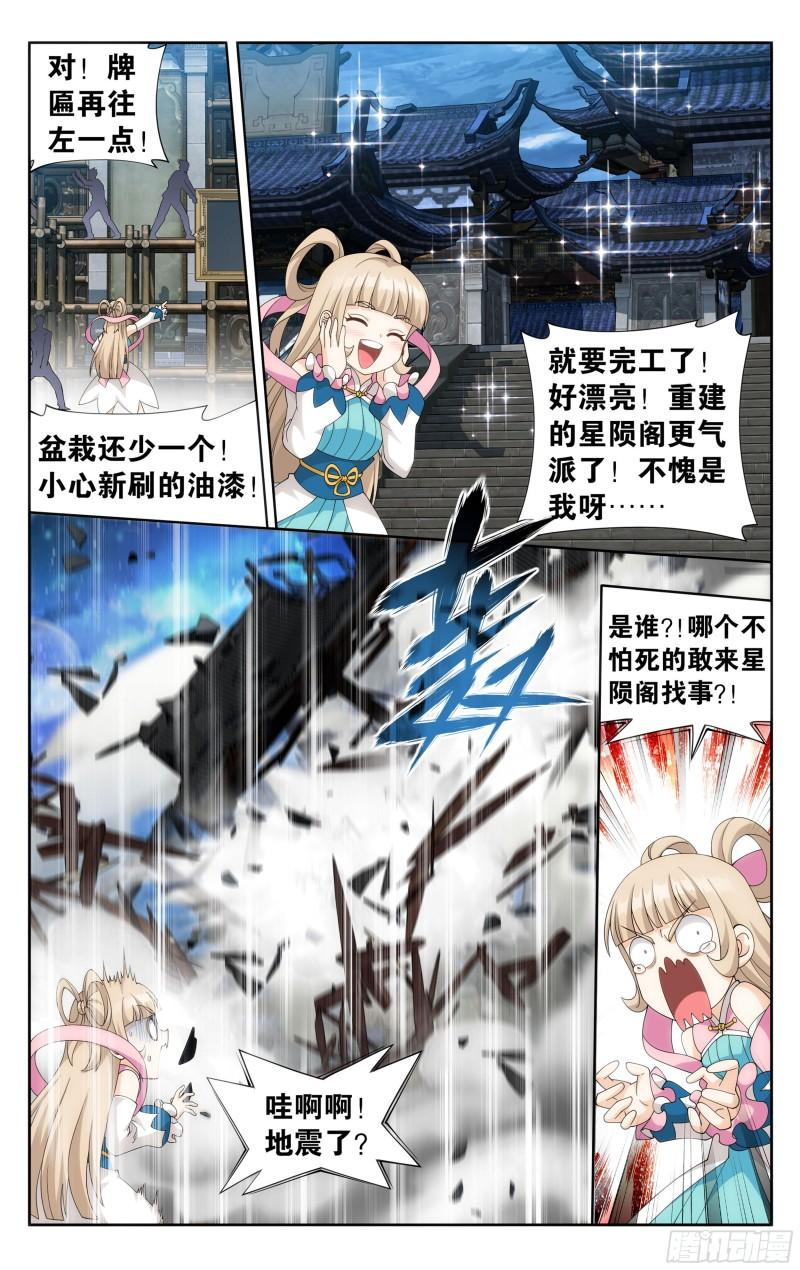boxBomb: (507, 308, 765, 547), (201, 1045, 423, 1198), (18, 398, 270, 532), (591, 580, 777, 754), (21, 32, 174, 173)
minBox: (18, 508, 783, 1234), (228, 32, 777, 571), (18, 32, 273, 535), (589, 577, 776, 1238)
